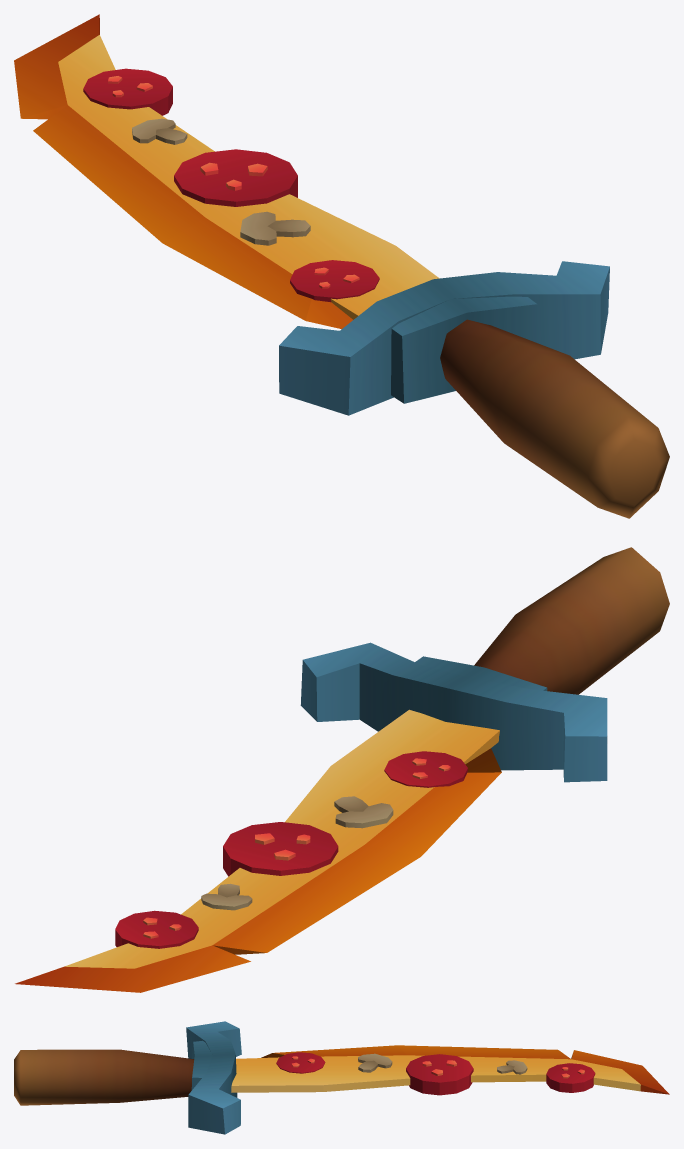
The model's file is pizza.fbx.
3 views of the same model, one above another, from view 1: azimuth 30°, elevation 25°; view 2: azimuth 150°, elevation 25°; view 3: azimuth 270°, elevation 25° (orthographic). The views are drawn at different scales.
Visible parts, largest first — view 1: sword3h01; view 2: sword3h01; view 3: sword3h01.
Boxes of the visible parts, bbox=[...] form: sword3h01: bbox=[14, 14, 669, 518]; sword3h01: bbox=[15, 547, 669, 992]; sword3h01: bbox=[14, 1021, 669, 1134].
Size of the model in its own units: 15.64 by 4.64 by 49.52.
Materials: 1 (1 with a texture image).
